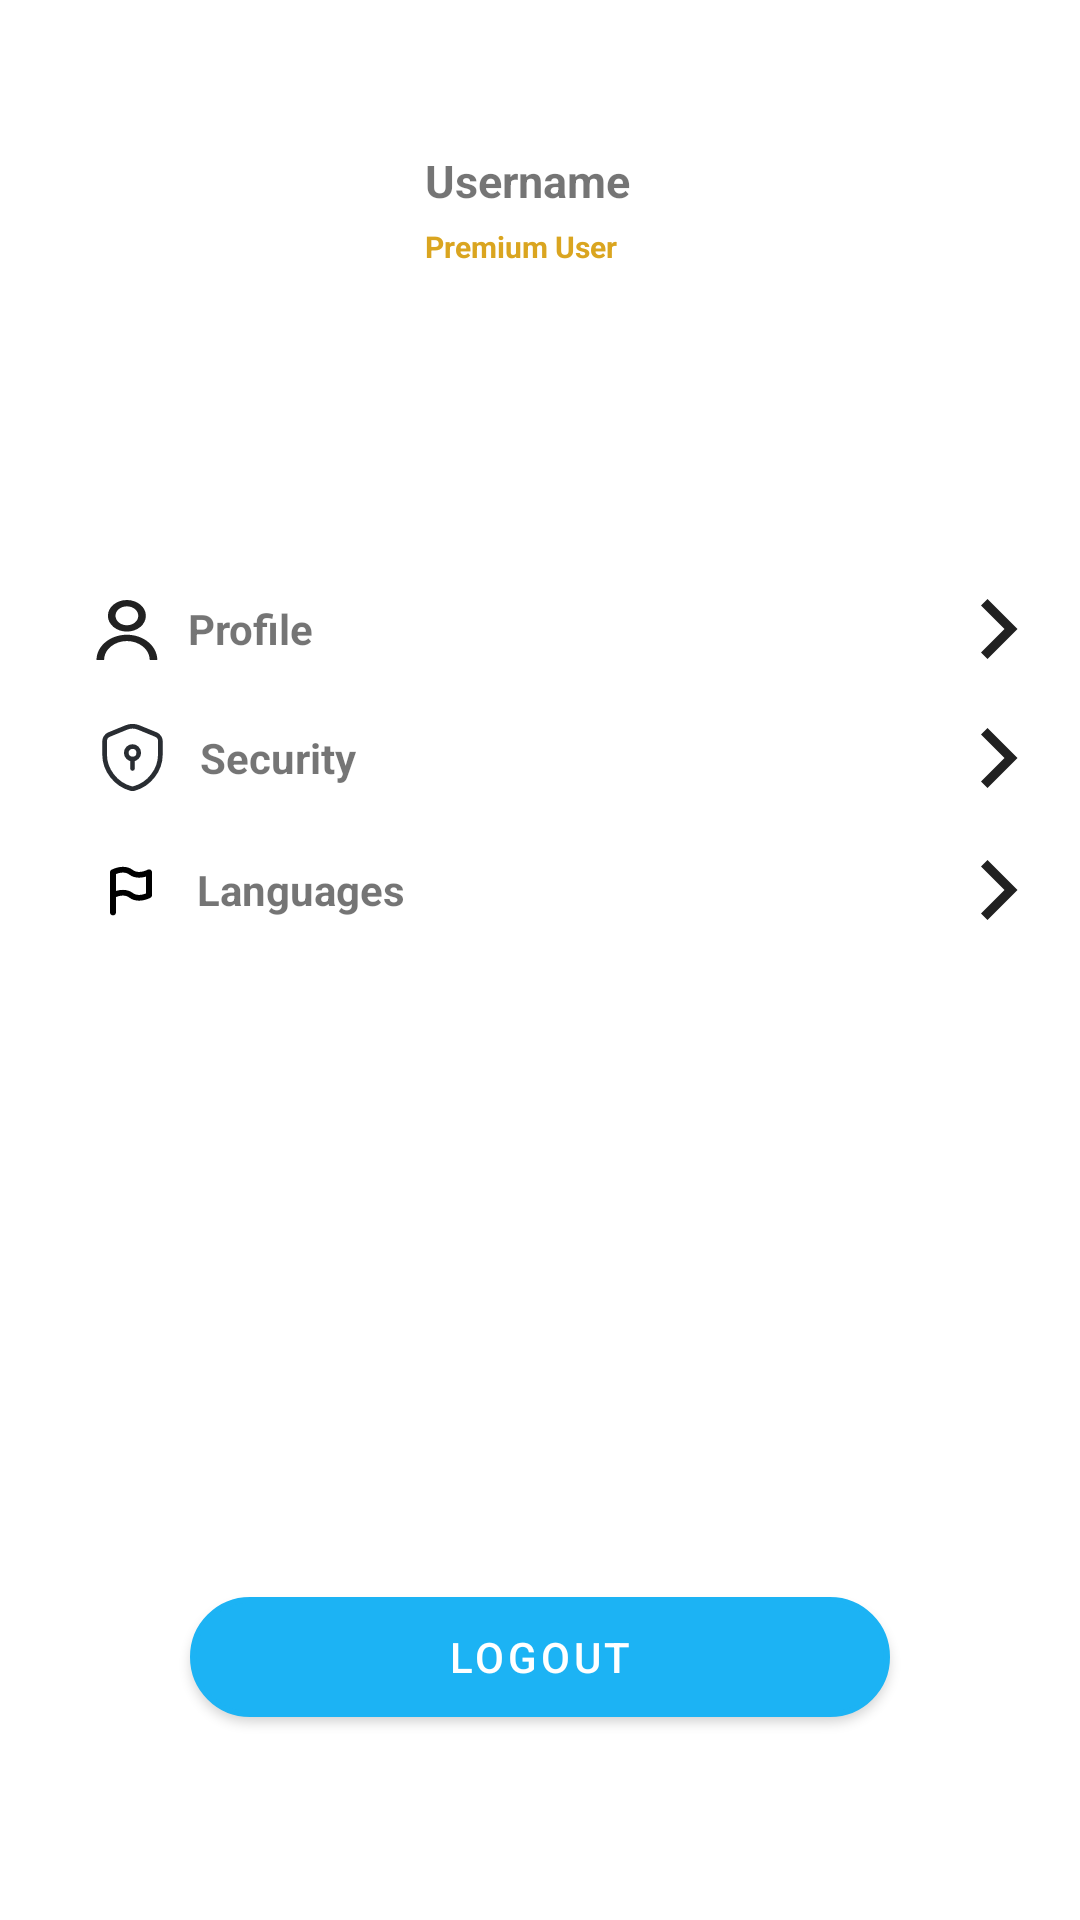

Locate icon controls on the screen. Image size 1080x1920, boxes as (x1, y1, x2, y2).
arrow: (981, 599, 1018, 659), (981, 728, 1018, 788), (981, 860, 1018, 920)
flag: (110, 866, 152, 916)
